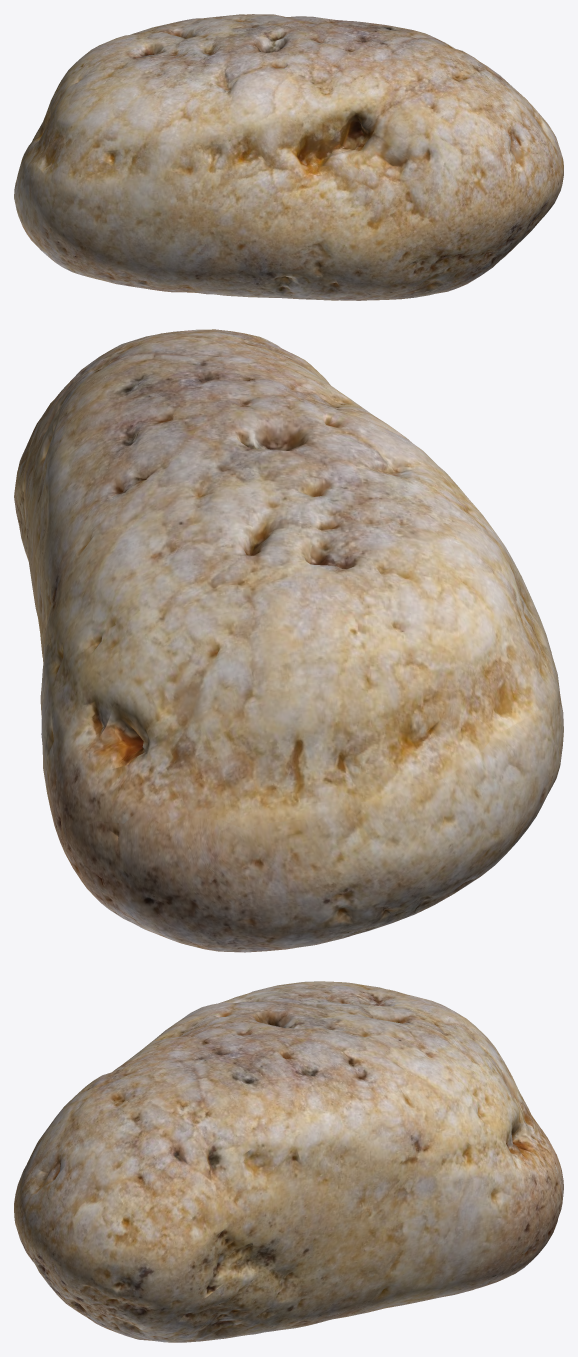
The picture shows the model from 3 angles, top to bottom: view 1: azimuth 30°, elevation 25°; view 2: azimuth 150°, elevation 25°; view 3: azimuth 270°, elevation 25°; orthographic projection. The views are drawn at different scales.
Parts seen in each view (by area): view 1: rock-015; view 2: rock-015; view 3: rock-015.
Part boxes in pixels (<box>): rock-015: <box>14,14,563,300</box>; rock-015: <box>14,329,563,952</box>; rock-015: <box>14,981,563,1342</box>.
Bounding box in the file's own units: 1.99 × 1.14 × 2.
1 material, 1 textured.
